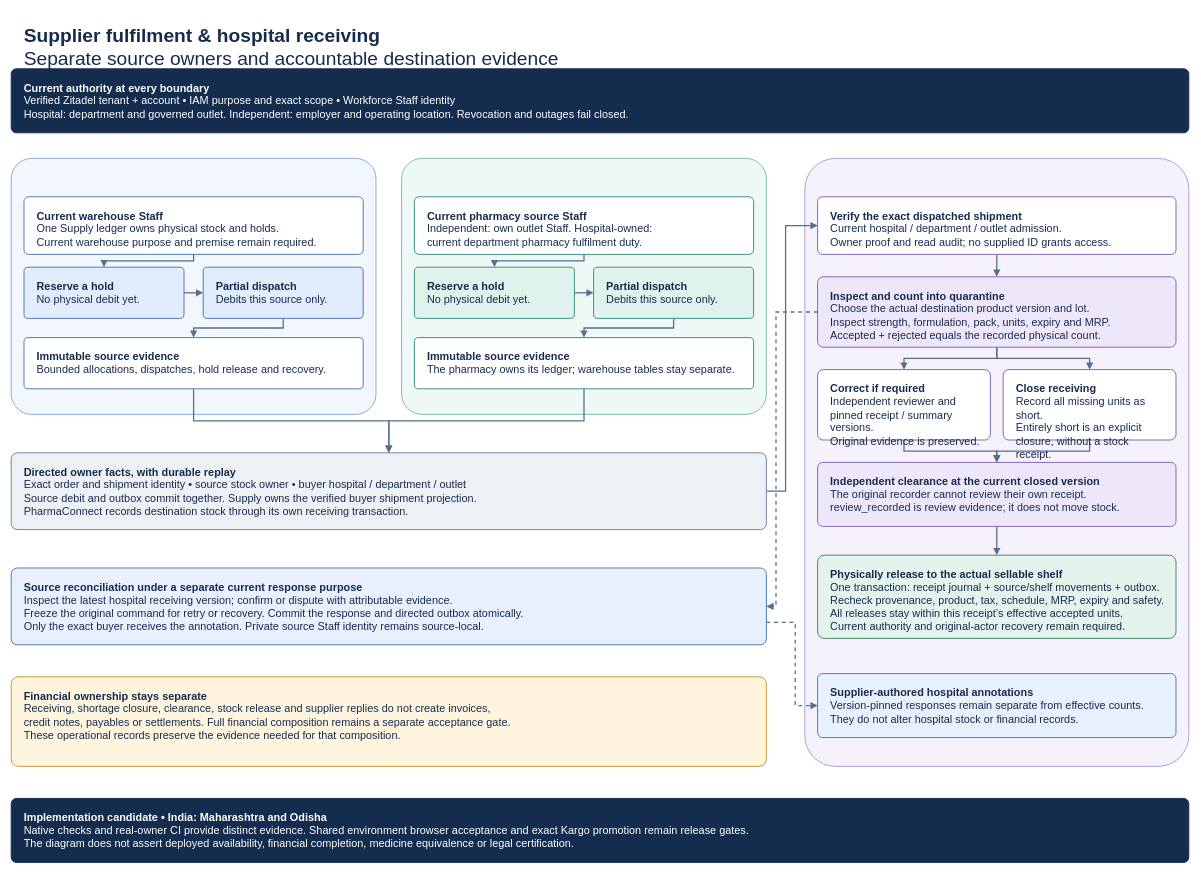
This 1201x874 diagram has some shape labels left out. The shapes that lost their labels are listed below. From the top down, each one's box as (x1, y1, x2, y2) in pixels, then its label:
(10, 158, 376, 415): 1 Supply-owned warehouse stock
(401, 158, 767, 415): 2 Pharma-owned outlet stock
(804, 158, 1189, 767): 3 Hospital receiving — Pharma owner
